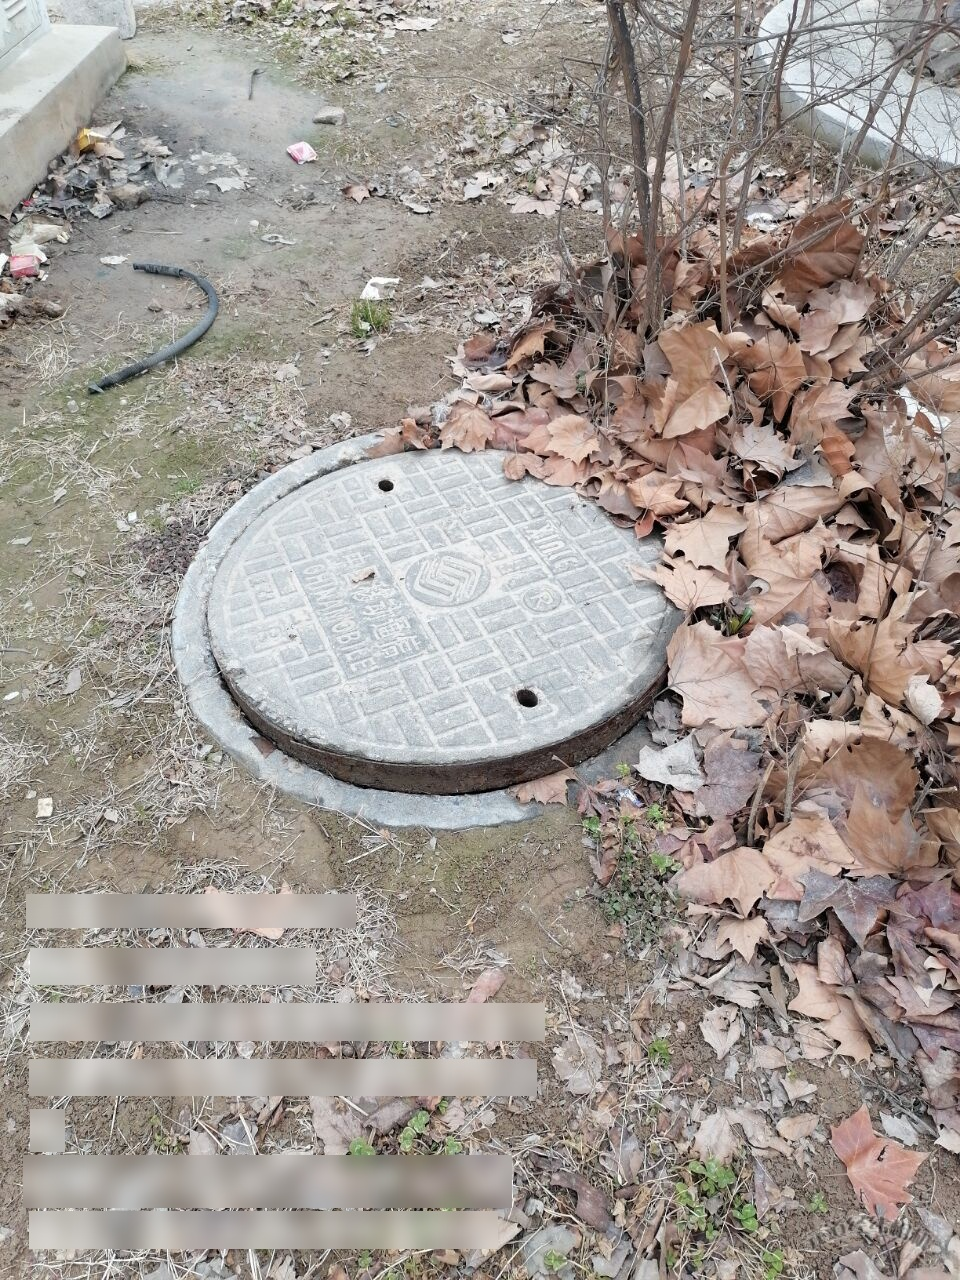well: (173, 440, 702, 825), (2, 256, 224, 389)
